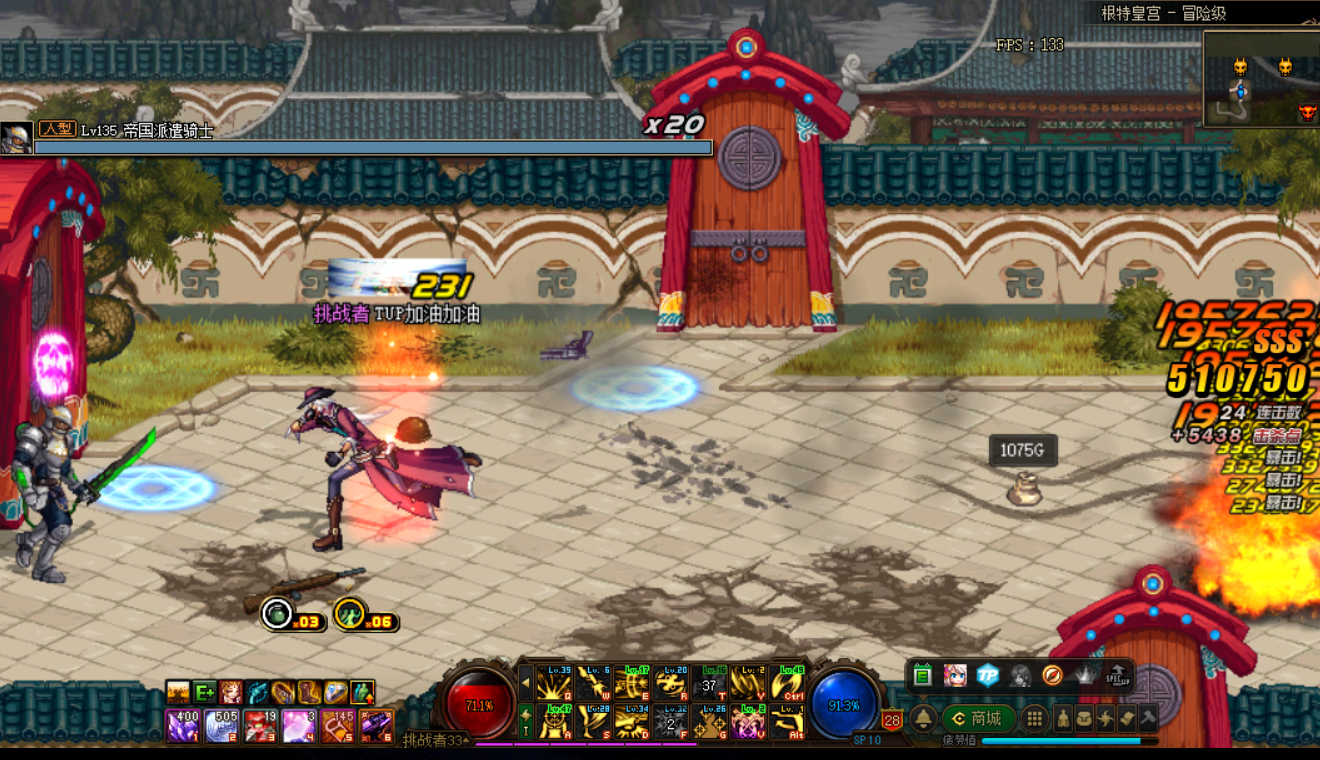monster: (8, 388, 163, 588)
warrior: (279, 369, 487, 561)
